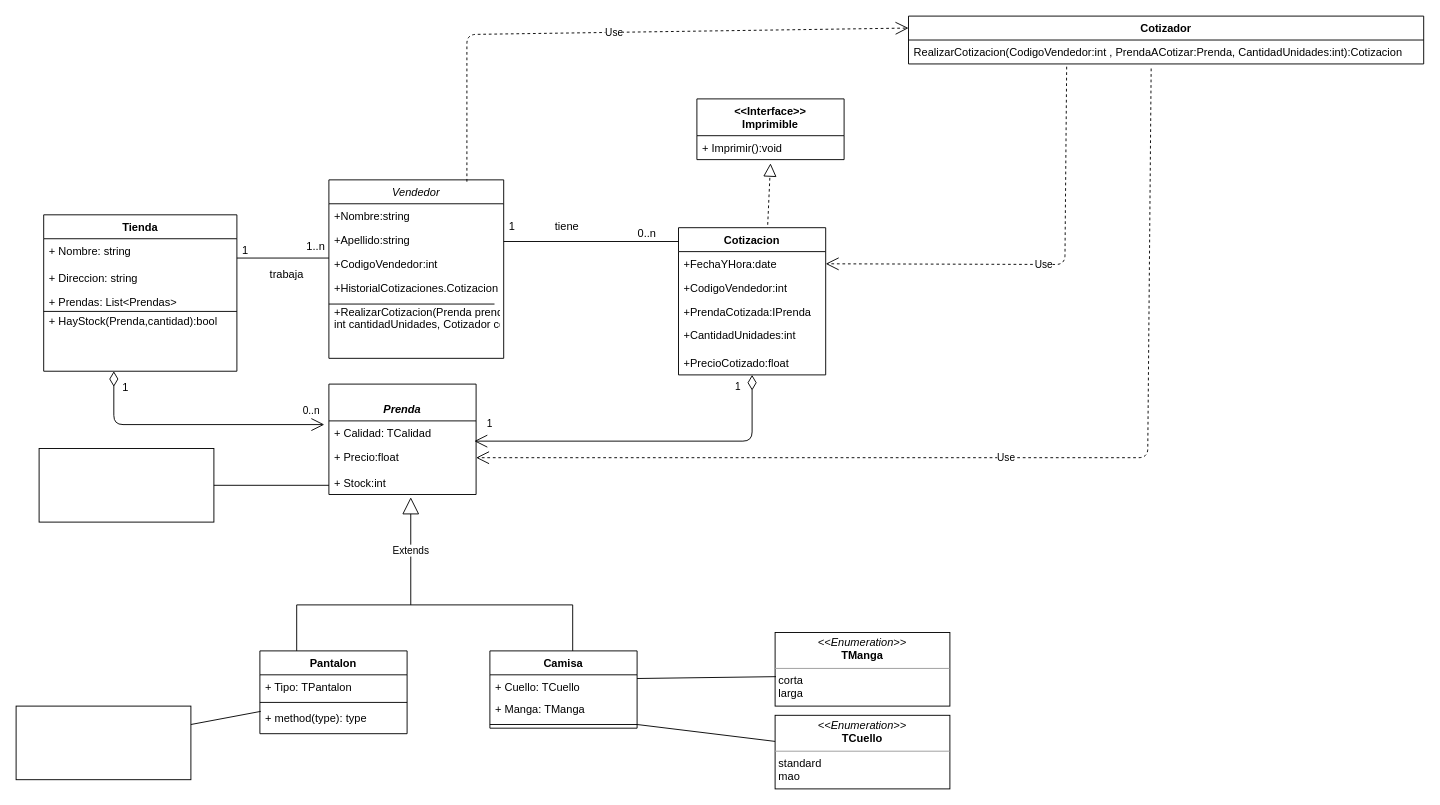
Image size: 1440x805. Some labels were removed from this diagram. The shapes that lost their labels are listed below. From the top down, each one's centre as x and y in pixels, then its label:
point 126,485: <<Enumeration>> TCalidad standard premium
point 103,742: <<Enumeration>> TPantalon comunes chupines
